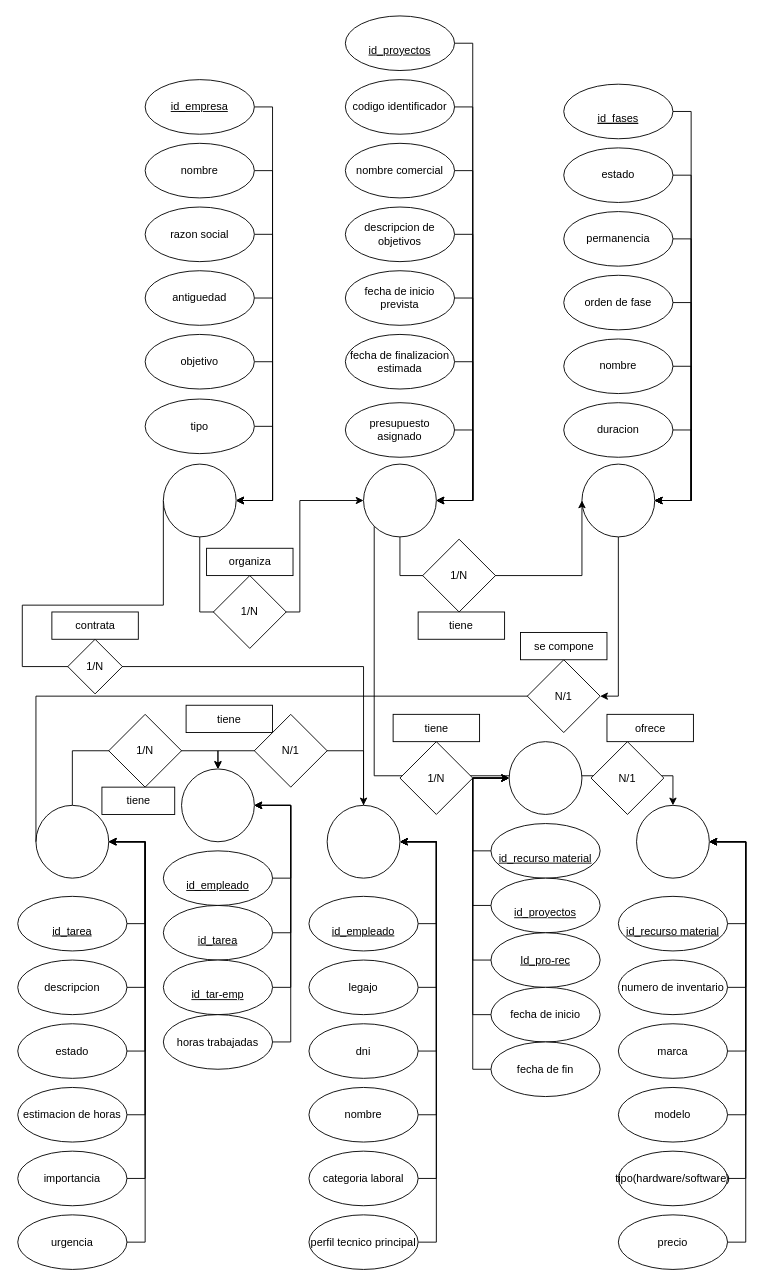
Image size: 769x1286. Some labels were removed from this diagram. Each missing label, with the centre of its shape:
"EMPLEADO" goes at (x=363, y=841).
"EMPRESA" goes at (x=199, y=500).
"FASES" goes at (x=618, y=500).
"PRO-REC" goes at (x=545, y=777).
"PROYECTOS" goes at (x=399, y=500).
"RECURSO MATERIAL" goes at (x=672, y=841).
"TAR-EMP" goes at (x=217, y=805).
"TAREA" goes at (x=72, y=841).
